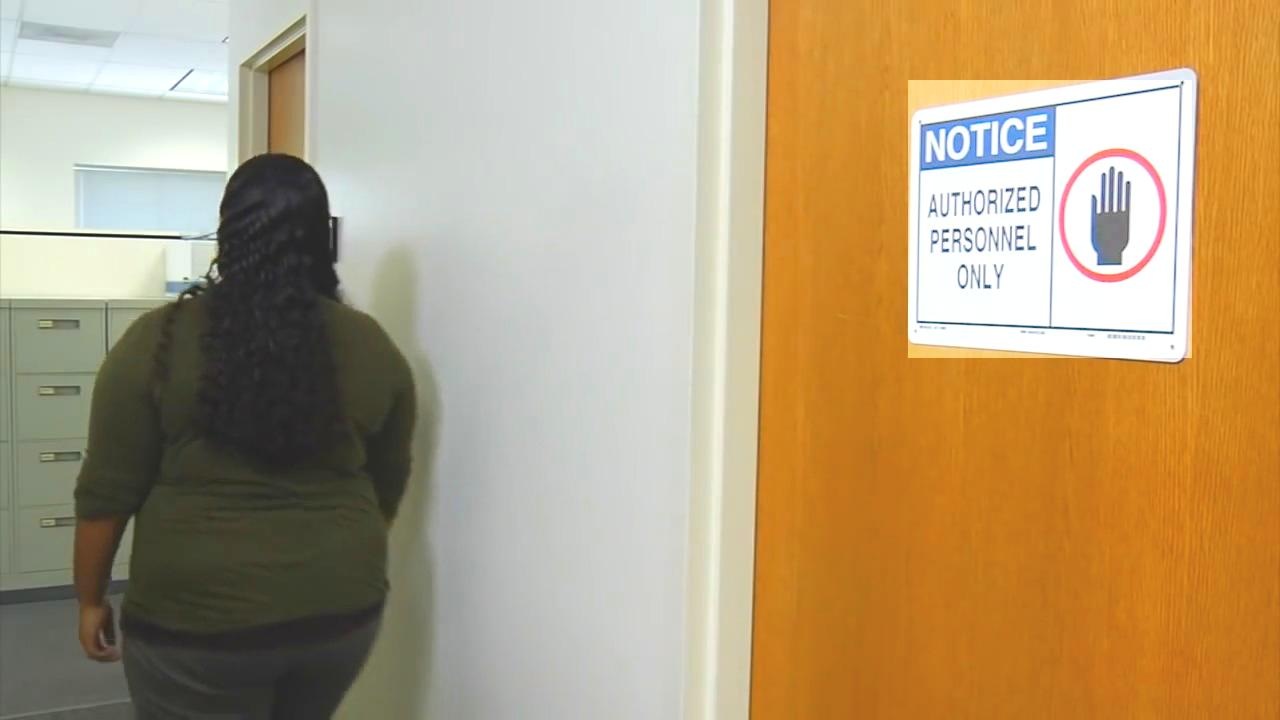safety_signage: (909, 80, 1193, 358)
